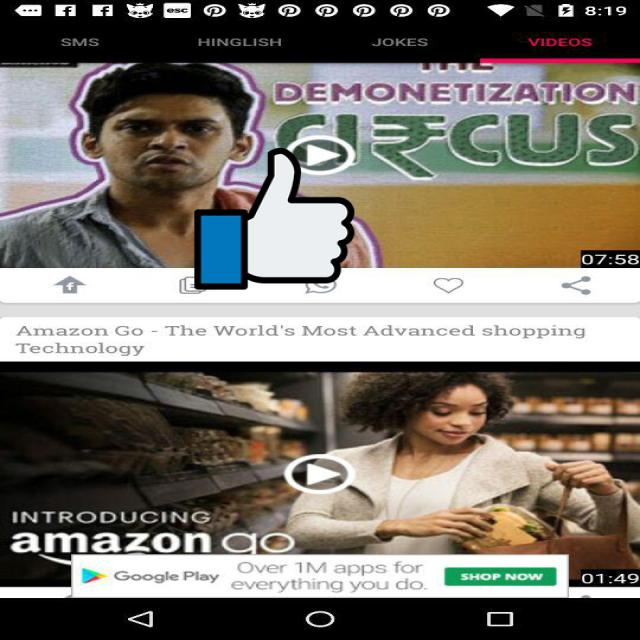privacy zuckering: (194, 144, 354, 292)
